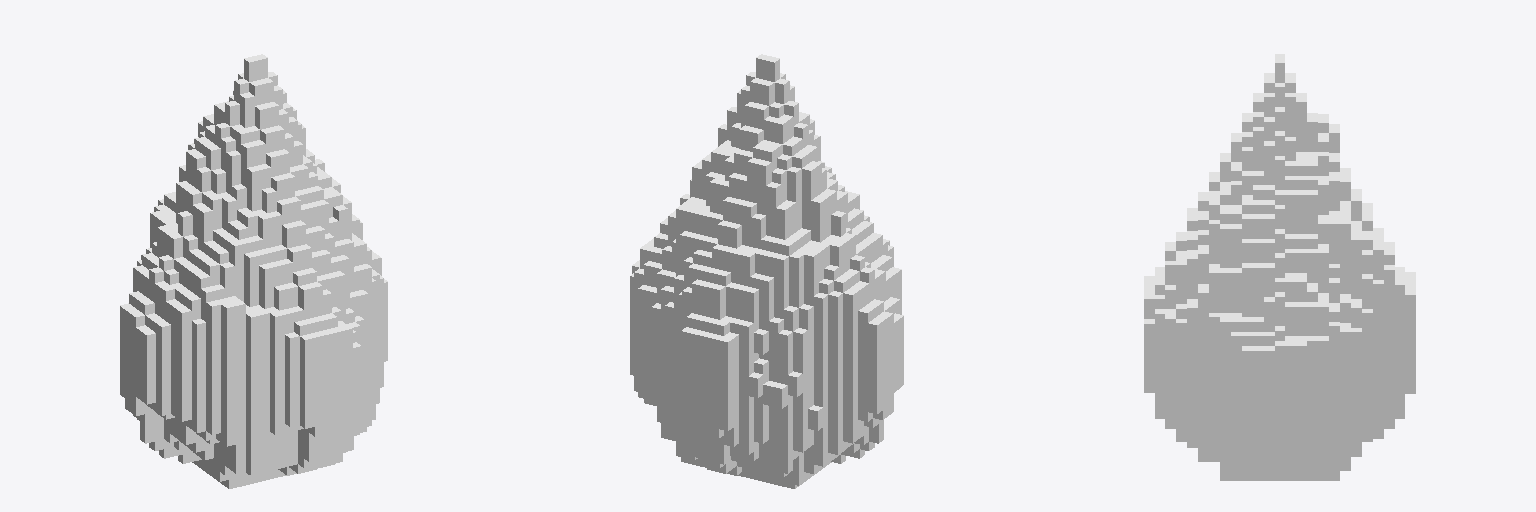
Rendered from napzak.obj.
The picture shows the model from 3 angles: view 1: azimuth 30°, elevation 25°; view 2: azimuth 150°, elevation 25°; view 3: azimuth 270°, elevation 25°; orthographic projection.
Parts seen in each view (by area): view 1: object 1; view 2: object 1; view 3: object 1.
Part boxes in pixels (left/top/right/bottom): object 1: left=120, top=54, right=387, bottom=488; object 1: left=630, top=54, right=903, bottom=488; object 1: left=1144, top=54, right=1415, bottom=480.
Size of the model in its own units: 2.6 by 4 by 2.5.